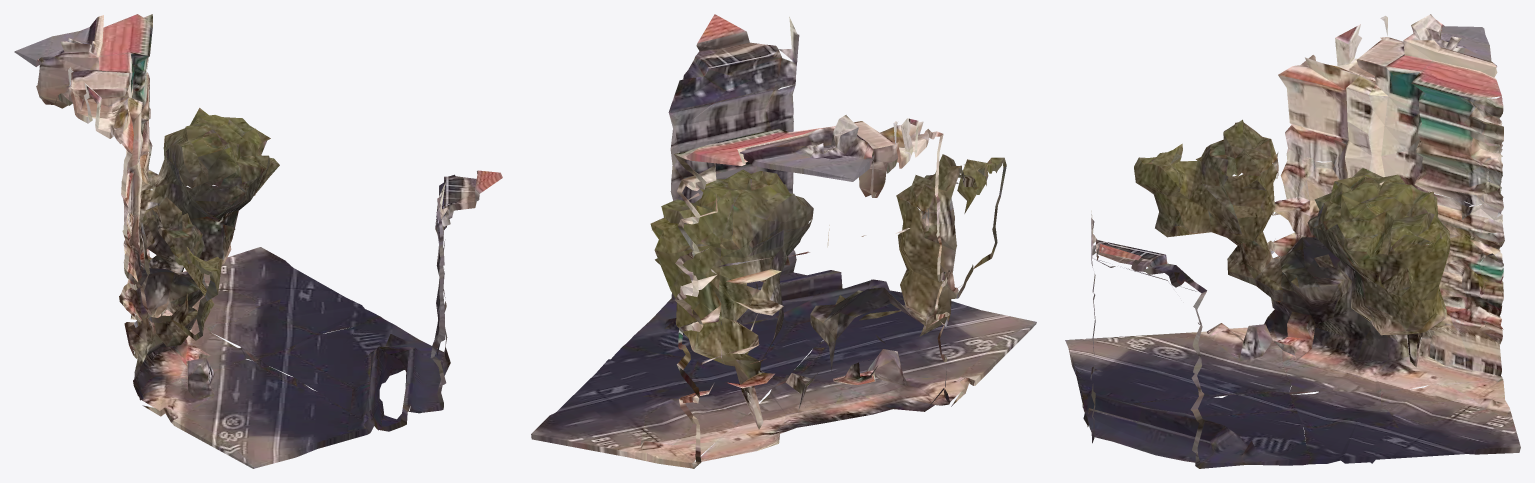
3 views of the same model, side by side, from view 1: azimuth 30°, elevation 25°; view 2: azimuth 150°, elevation 25°; view 3: azimuth 270°, elevation 25° (orthographic). The views are drawn at different scales.
Visible parts, largest first — view 1: Mesh_0; view 2: Mesh_0; view 3: Mesh_0.
Part boxes in pixels (box(x1,y1,x2,y2)): Mesh_0: box(14, 14, 502, 468); Mesh_0: box(531, 14, 1036, 468); Mesh_0: box(1065, 14, 1520, 468).
Size of the model in its own units: 33.46 by 32.43 by 41.41.
Materials: 1 (1 with a texture image).
